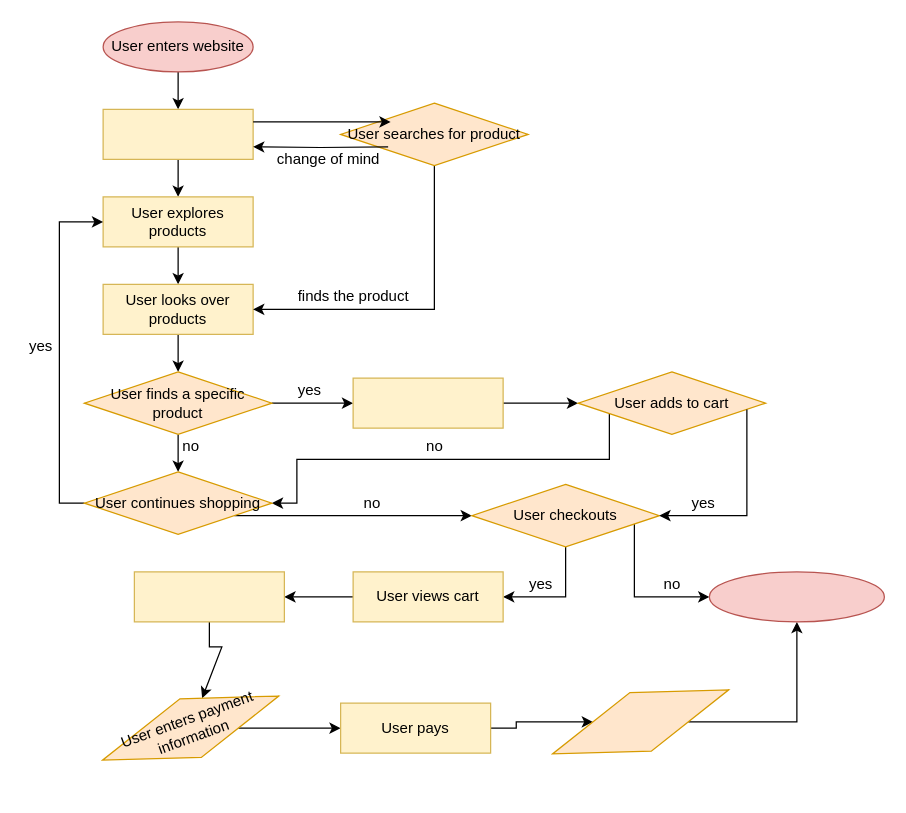
The diagram is 906 pixels wide and 813 high, and some of its shapes have lost their labels. Each missing label, with the centre of its shape:
Product's webpage opens: point (427, 402)
User leaves website: point (796, 596)
User receives order confirmation and email: point (640, 721)
User sees products: point (177, 133)
User views payment: point (208, 596)
